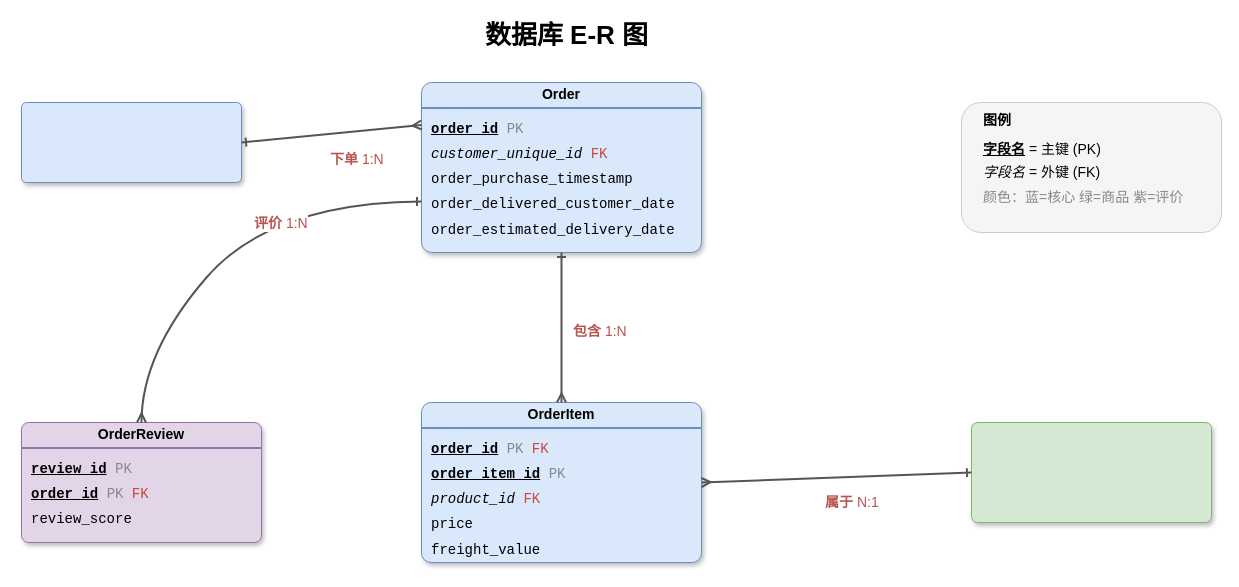
The diagram is 1239 pixels wide and 587 high, and some of its shapes have lost their labels. Here are the shapes that lost their labels. From the top down, the centre of each, then its label:
(x=132, y=144): Customer customer_unique_id PK
(x=1092, y=474): Product product_id PK product_category_name
